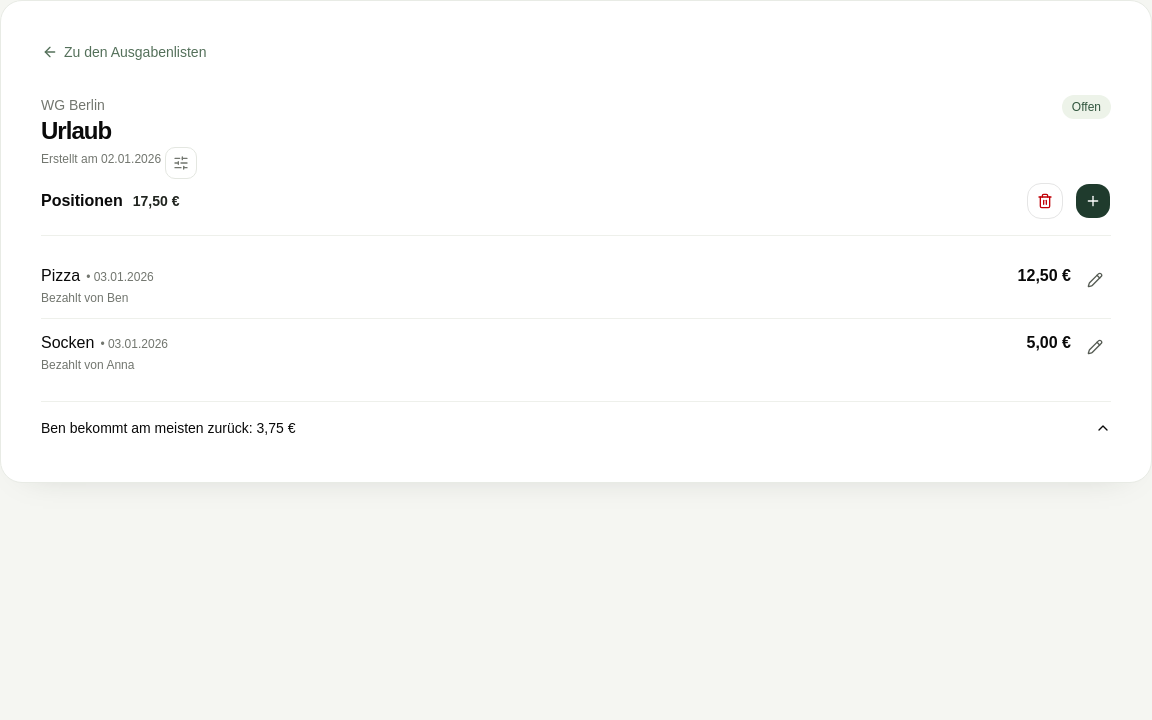
Scenario: ExpenseListDetail › bearbeitet eine Position mit bestehenden Werten
Click the button named "Position bearbeiten: Socken" at (1095, 347), box x1=1079 y1=331 x2=1111 y2=363
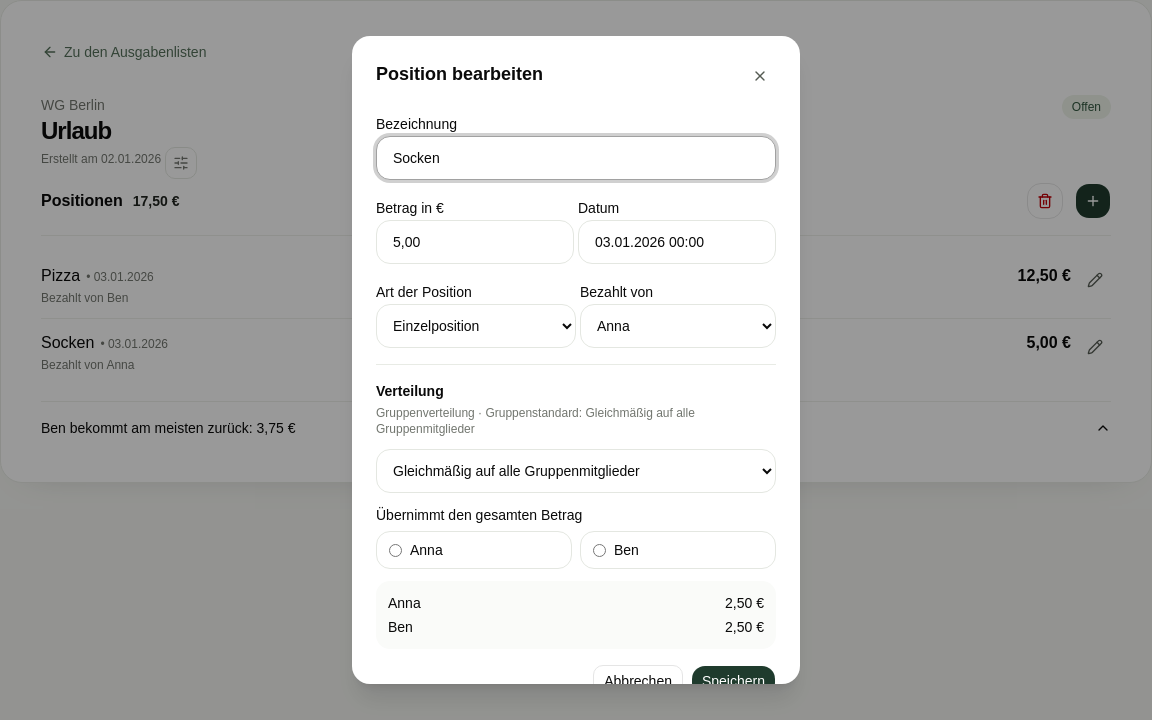
Now the field labelled "Bezeichnung" holds "Socken"
Now the field labelled "Betrag in €" holds "5,00", box x1=376 y1=220 x2=574 y2=264
Now the dropdown labelled "Bezahlt von" shows "Anna", box x1=580 y1=304 x2=776 y2=348
Replace the text in the field labelled "Bezeichnung" with "Brot" at (576, 158), box x1=376 y1=136 x2=776 y2=180
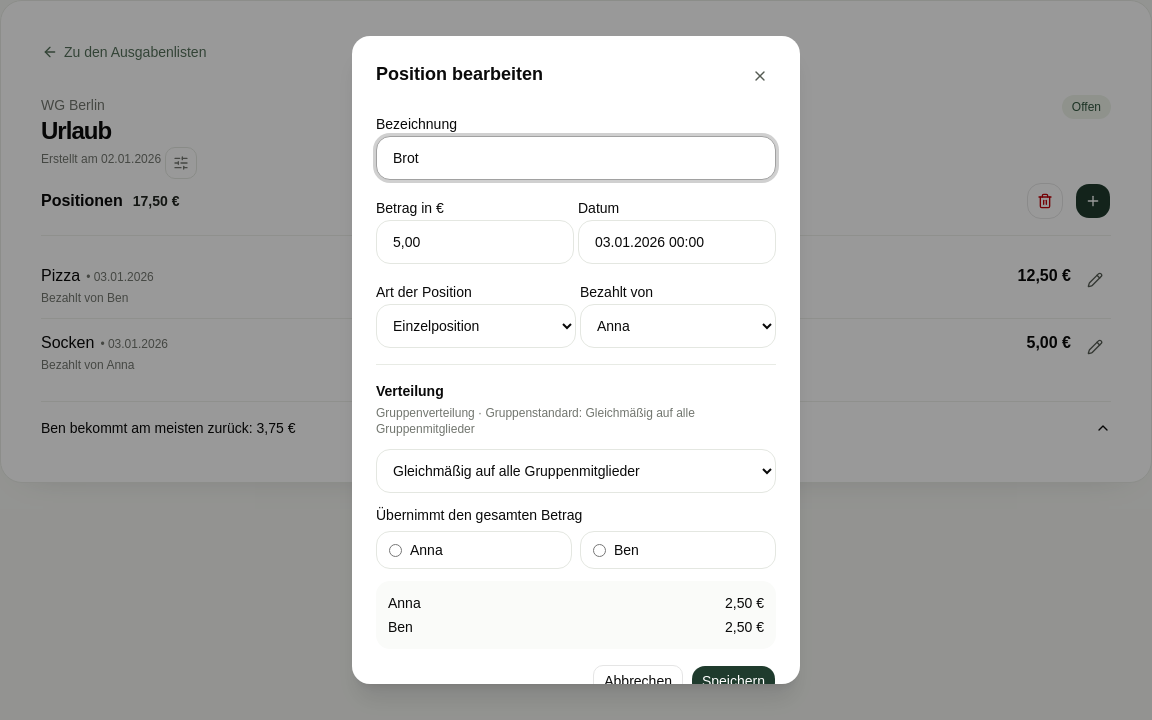
Clear the field labelled "Betrag in €" at (475, 242), box x1=376 y1=220 x2=574 y2=264
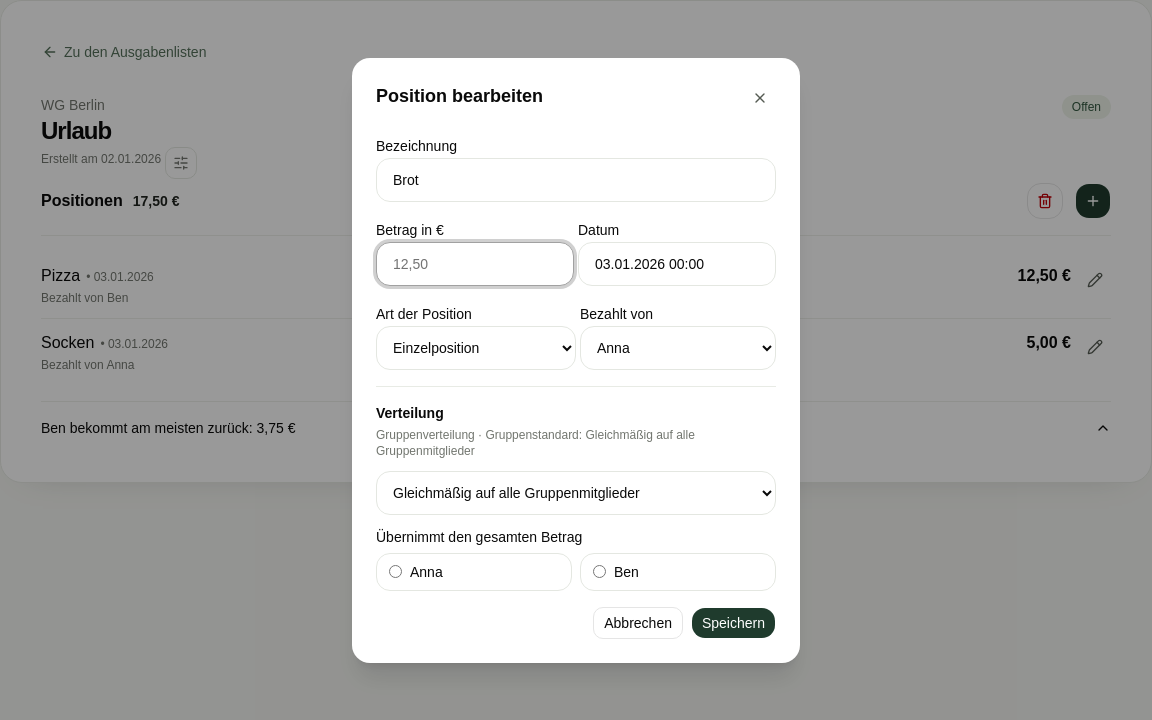
Type "12.5" into the field labelled "Betrag in €" at (475, 264), box x1=376 y1=242 x2=574 y2=286
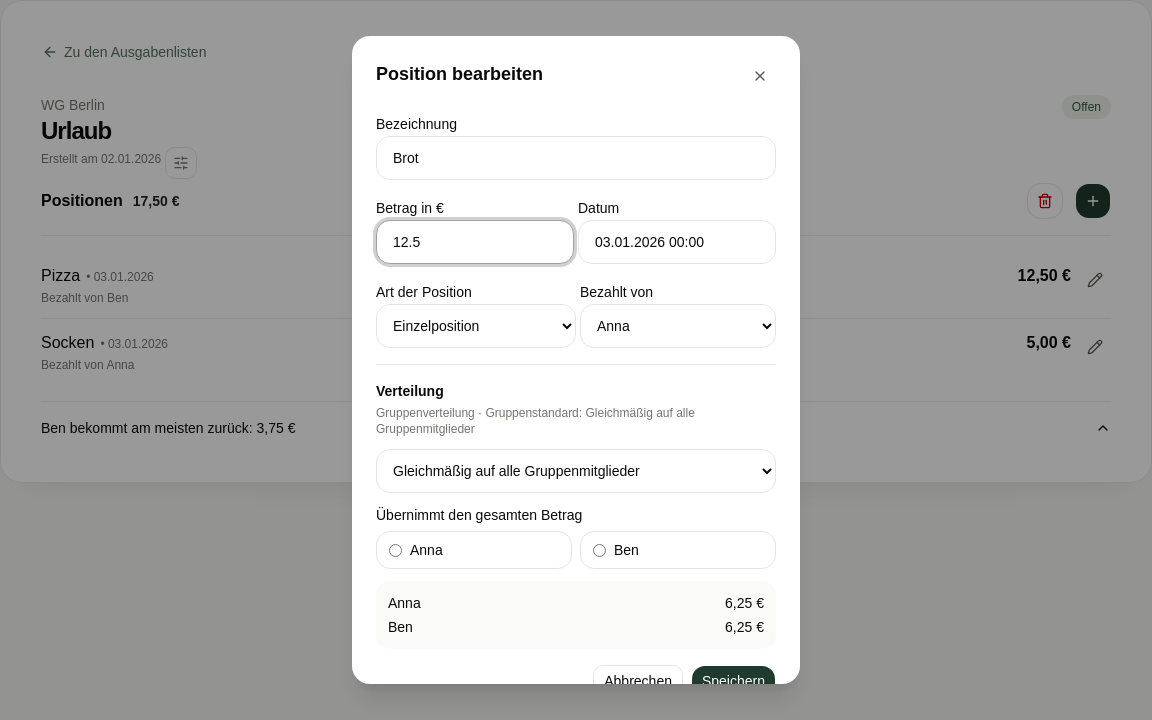
Click the button "Speichern" at (734, 681), box x1=691 y1=665 x2=776 y2=697
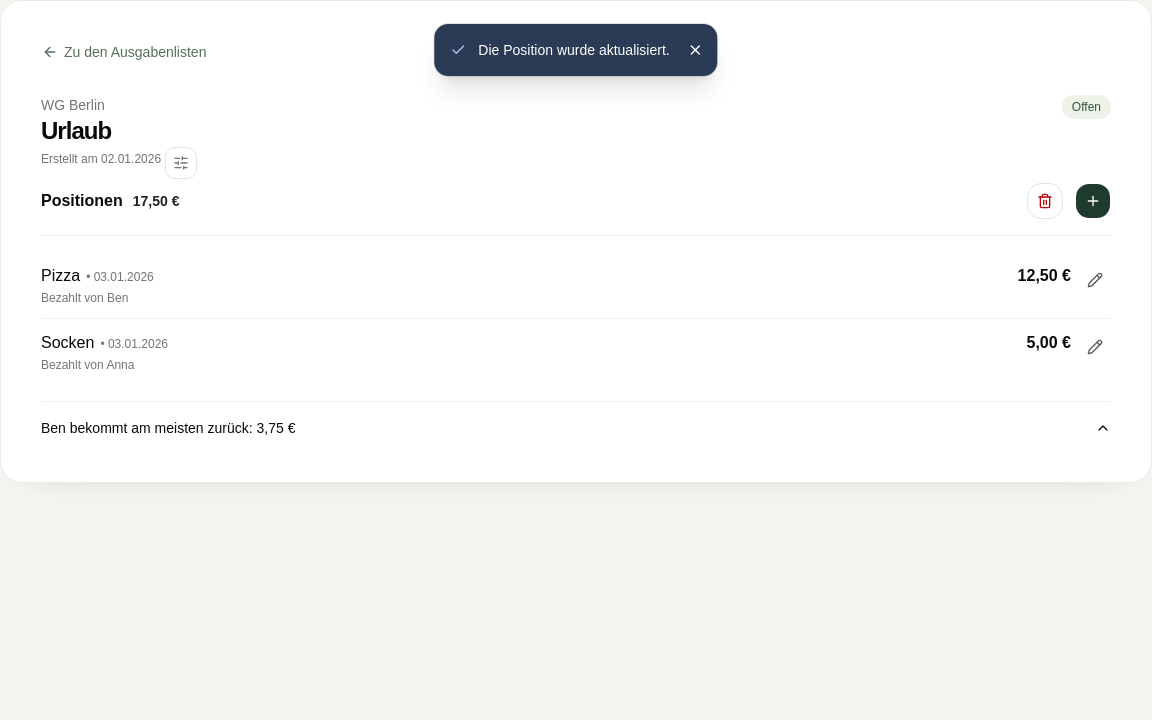
Now the text "Die Position wurde aktualisiert." is shown, box x1=478 y1=40 x2=670 y2=60
